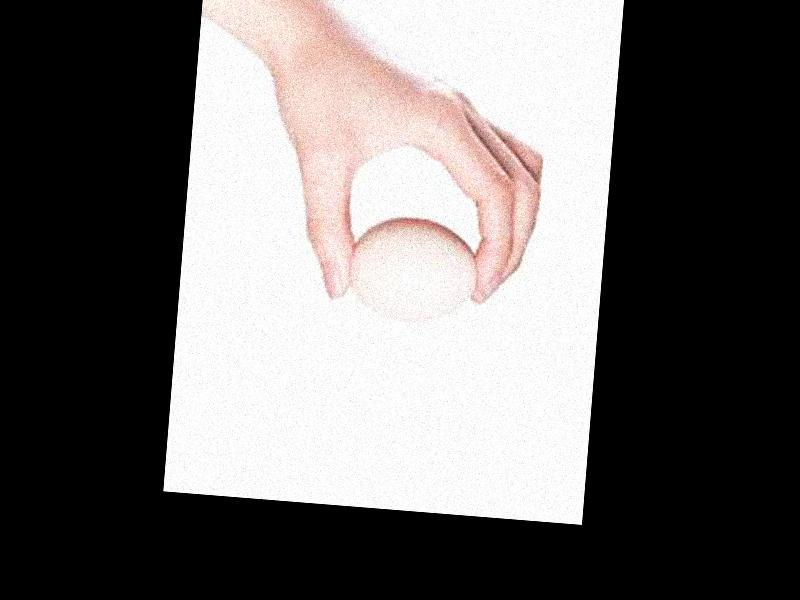Eggs: (345, 213, 482, 326)
